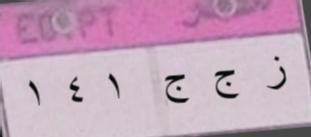1: (102, 68, 128, 106), (24, 74, 48, 114)
4: (61, 74, 88, 110)
jeem: (212, 64, 240, 109), (159, 70, 192, 108)
zay: (264, 52, 290, 94)
